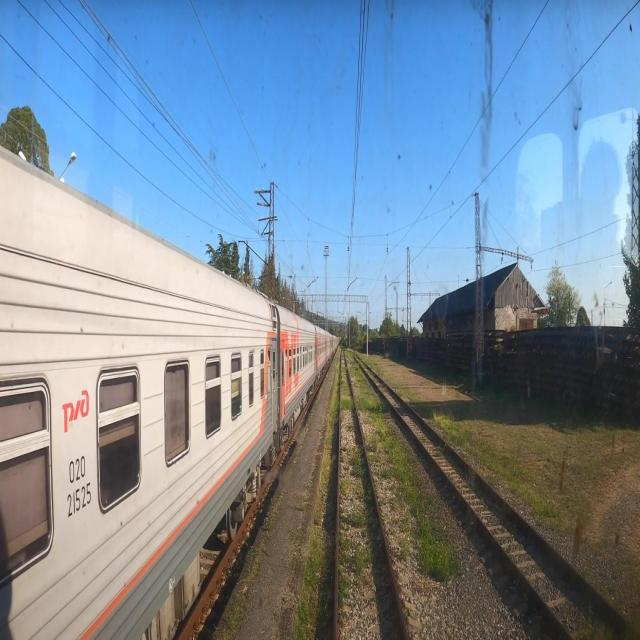rail-track: (355, 357, 640, 639)
trains: (0, 147, 339, 640)
